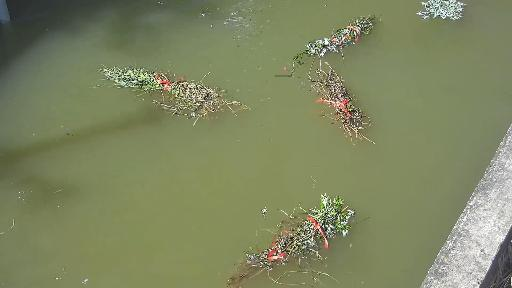twig: (221, 192, 379, 288), (98, 56, 275, 133), (303, 65, 395, 153), (291, 14, 388, 62), (419, 0, 478, 14)
